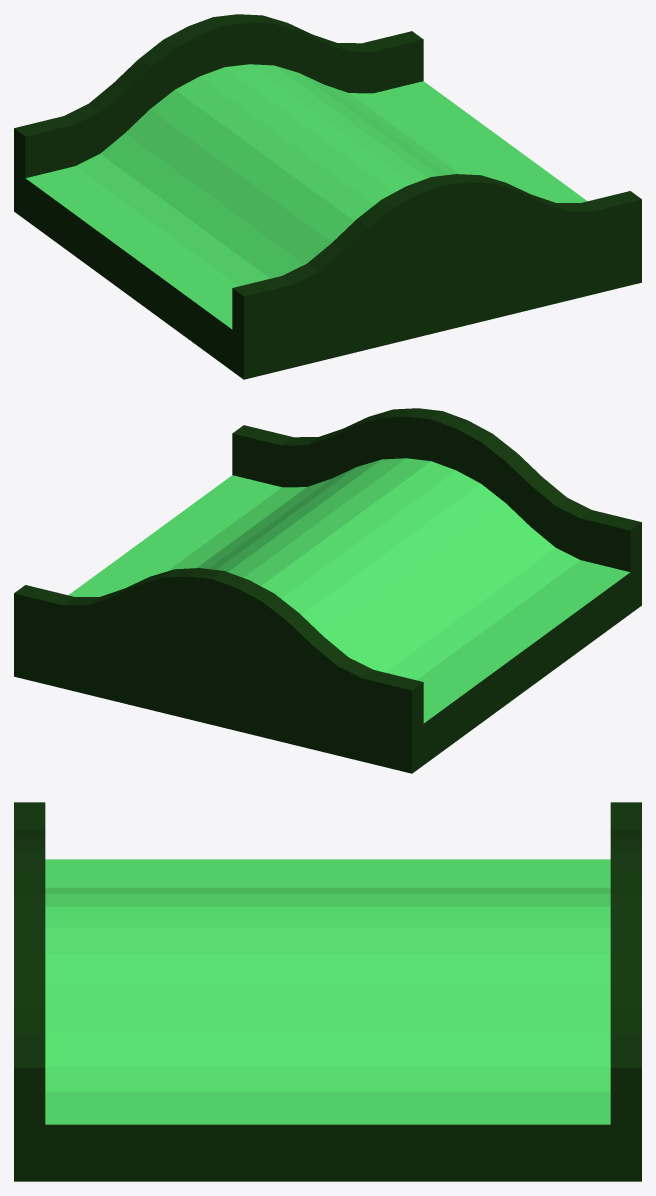
Rendered from MG Mound 1.fbx.
The picture shows the model from 3 angles, top to bottom: view 1: azimuth 30°, elevation 25°; view 2: azimuth 150°, elevation 25°; view 3: azimuth 270°, elevation 25°; orthographic projection. The views are drawn at different scales.
Visible parts, largest first — view 1: MG Mound 1; view 2: MG Mound 1; view 3: MG Mound 1.
Boxes of the visible parts, <box> form: MG Mound 1: <box>14,14,641,379</box>; MG Mound 1: <box>14,408,641,773</box>; MG Mound 1: <box>14,802,641,1181</box>.
Bounding box in the file's own units: 200 × 70 × 200.
